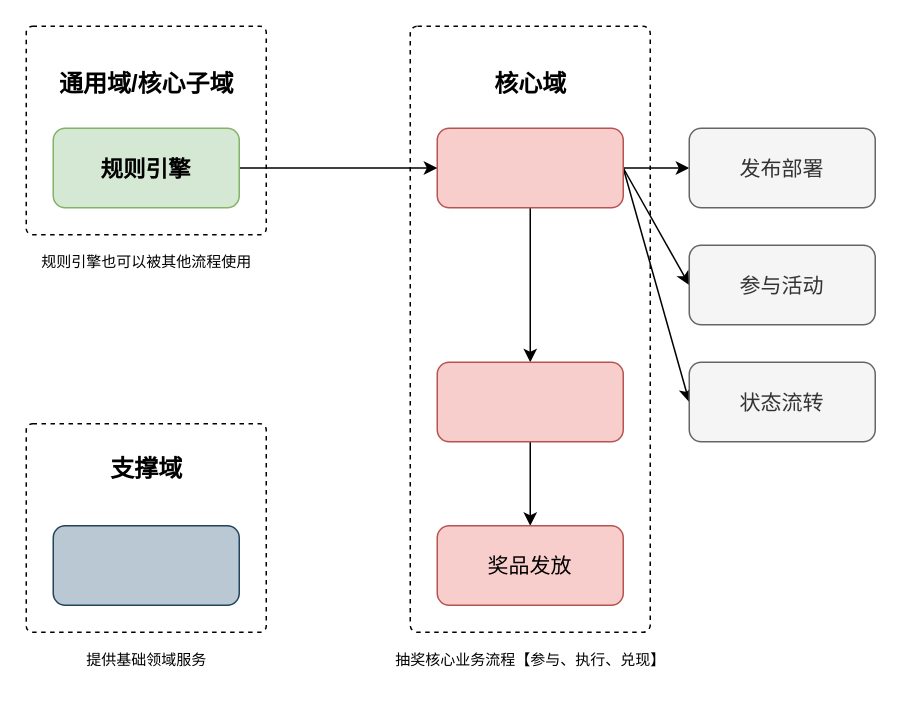
This 902x705 diagram has some shape labels left out. Each missing label, with the centre of its shape:
"ID域" goes at [145,564].
"抽奖策略" goes at [529,401].
"活动管理" goes at [529,167].
